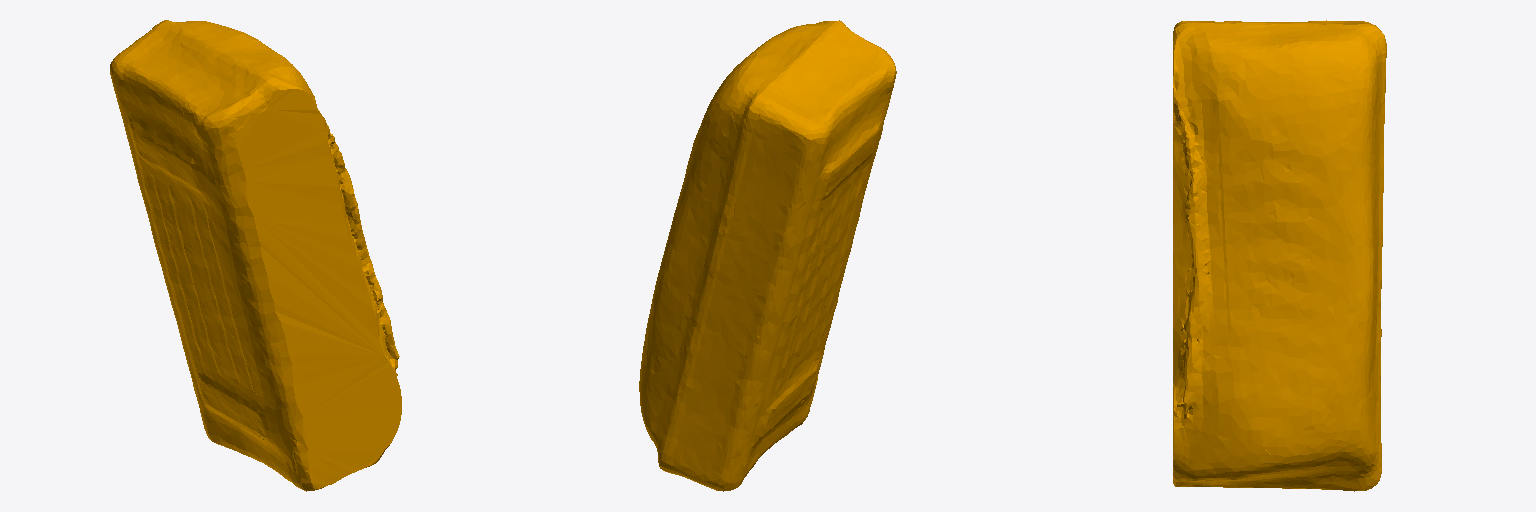
The robot description file, URDF, robot "blackboarderaser":
<?xml version="1.0" ?>
<!-- auto-generated by gen_object_urdf.py (TactiDex import) -->
<robot name="blackboarderaser">
  <link name="bottom">
    <inertial>
      <origin rpy="0 0 0" xyz="0.00025378277 -0.0030078629 -0.0002331824"/>
      <mass value="0.1"/>
      <inertia ixx="0.00011250385" ixy="1.3610958e-06" ixz="2.0771038e-05"
               iyy="0.00010929497" iyz="-2.2264508e-07" izz="3.5004859e-05"/>
    </inertial>
    <visual>
      <origin rpy="0 0 0" xyz="0 0 0"/>
      <geometry><mesh filename="BlackboardEraser.obj" scale="1 1 1"/></geometry>
    </visual>
      <collision>
        <origin rpy="0 0 0" xyz="0 0 0"/>
        <geometry><mesh filename="collision_parts/part_000.obj" scale="1 1 1"/></geometry>
      </collision>
      <collision>
        <origin rpy="0 0 0" xyz="0 0 0"/>
        <geometry><mesh filename="collision_parts/part_001.obj" scale="1 1 1"/></geometry>
      </collision>
  </link>
</robot>

--- What the picture shows (computed from the rendered views, not written in the file) ---
3 views of the same robot in one strip: view 1: azimuth 30°, elevation 25°; view 2: azimuth 150°, elevation 25°; view 3: azimuth 270°, elevation 25° (orthographic).
Model blackboarderaser with 1 links and 0 joints (none), rooted at bottom, posed every joint at zero.
Visible links, largest first — view 1: bottom; view 2: bottom; view 3: bottom.
Link boxes in pixels (x1,y1,x2,y2): bottom: (110, 20, 401, 491); bottom: (639, 20, 896, 491); bottom: (1173, 20, 1386, 491).
Size in the robot's own frame: 0.0602 by 0.0515 by 0.1161 metres.
Meshes: 1 distinct files referenced, 1 mesh visuals loaded (1 OBJ).
